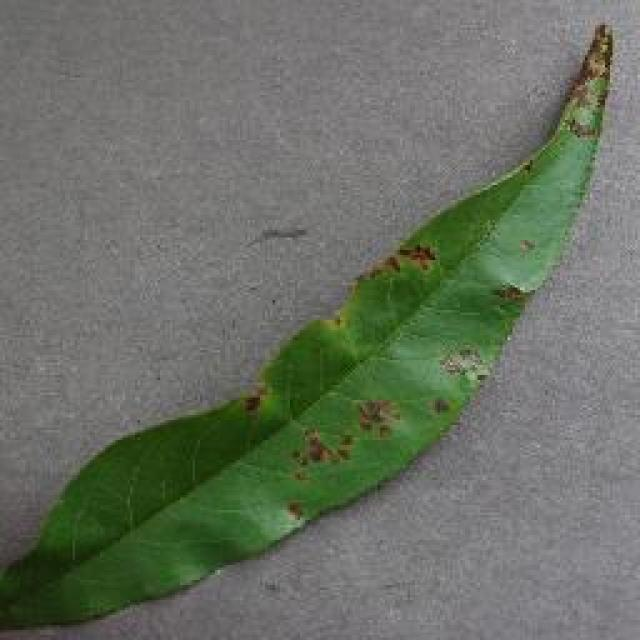Peach_Bacterial_Spot: (285, 240, 537, 500)
